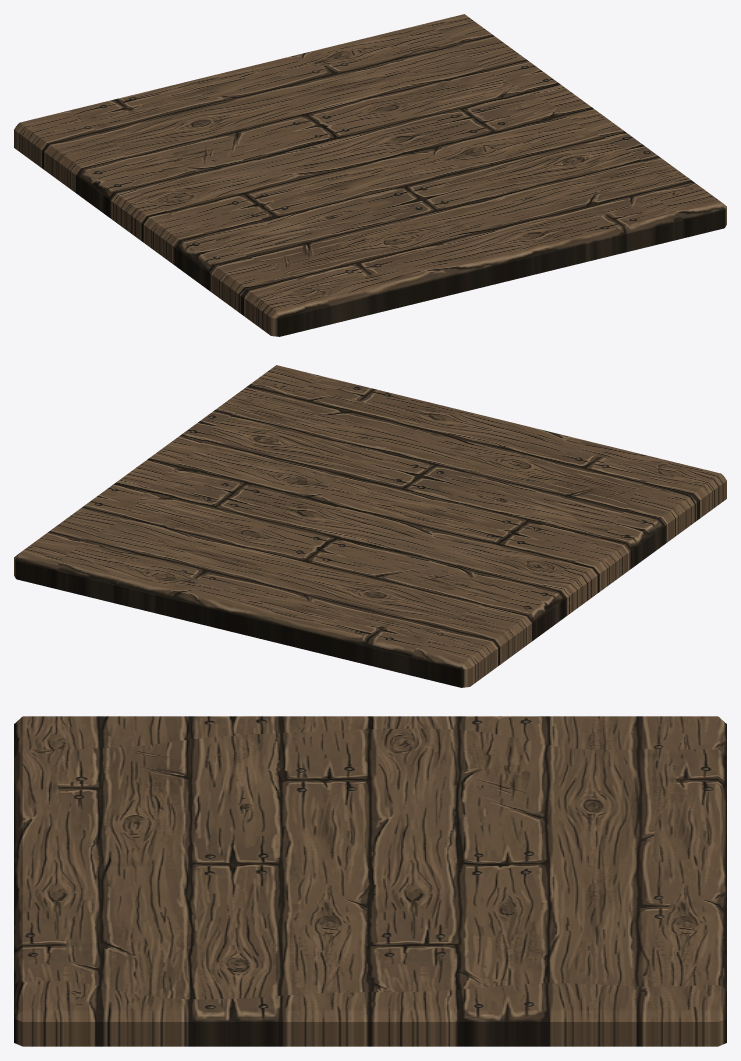
File: piso_tabuas.glb
The picture shows the model from 3 angles, top to bottom: view 1: azimuth 30°, elevation 25°; view 2: azimuth 150°, elevation 25°; view 3: azimuth 270°, elevation 25°; orthographic projection. The views are drawn at different scales.
Visible parts, largest first — view 1: piso_tabuas; view 2: piso_tabuas; view 3: piso_tabuas.
Part boxes in pixels (bbox=[...]): piso_tabuas: bbox=[14, 14, 726, 336]; piso_tabuas: bbox=[14, 365, 726, 687]; piso_tabuas: bbox=[14, 716, 726, 1046].
Bounding box in the file's own units: 1 × 0.05 × 1.
Materials: 1 (1 with a texture image).
